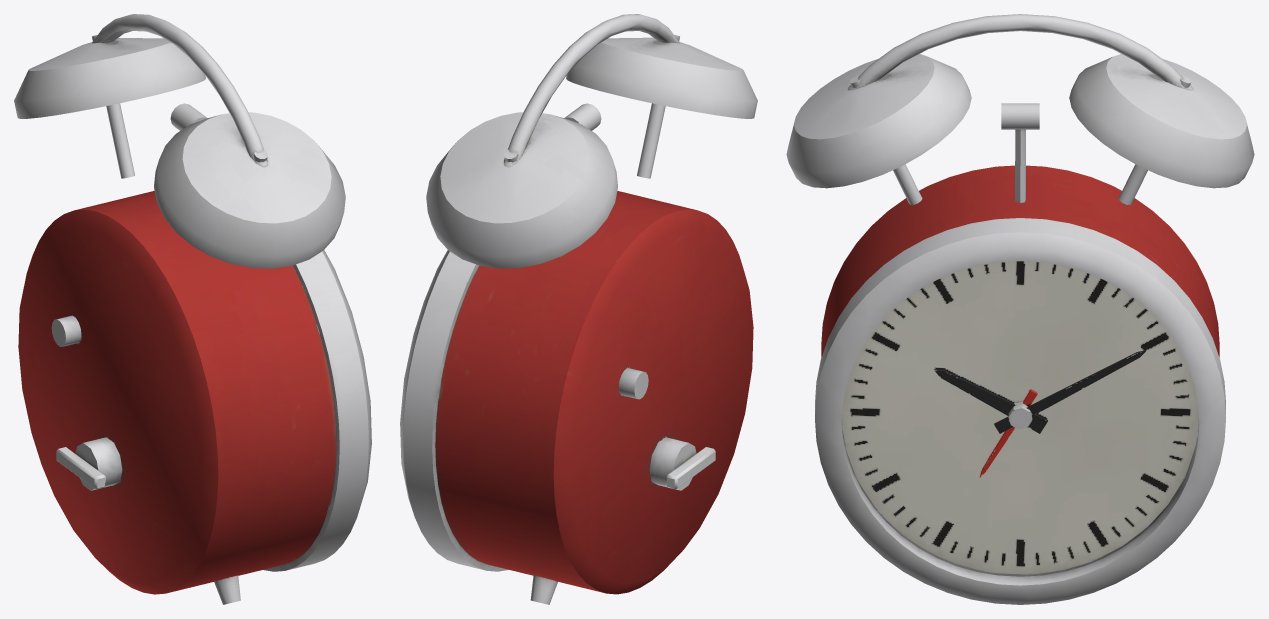
The model's file is isca_sonora_leve.glb.
3 views of the same model, side by side, from view 1: azimuth 30°, elevation 25°; view 2: azimuth 150°, elevation 25°; view 3: azimuth 270°, elevation 25° (orthographic).
Parts seen in each view (by area): view 1: isca_sonora_leve; view 2: isca_sonora_leve; view 3: isca_sonora_leve.
Boxes of the visible parts, x1,y1,x2,y2 form: isca_sonora_leve: (14,14,371,604); isca_sonora_leve: (400,14,757,604); isca_sonora_leve: (786,14,1254,604).
Bounding box in the file's own units: 0.052 × 0.1332 × 0.1033.
Materials: 1 (1 with a texture image).
